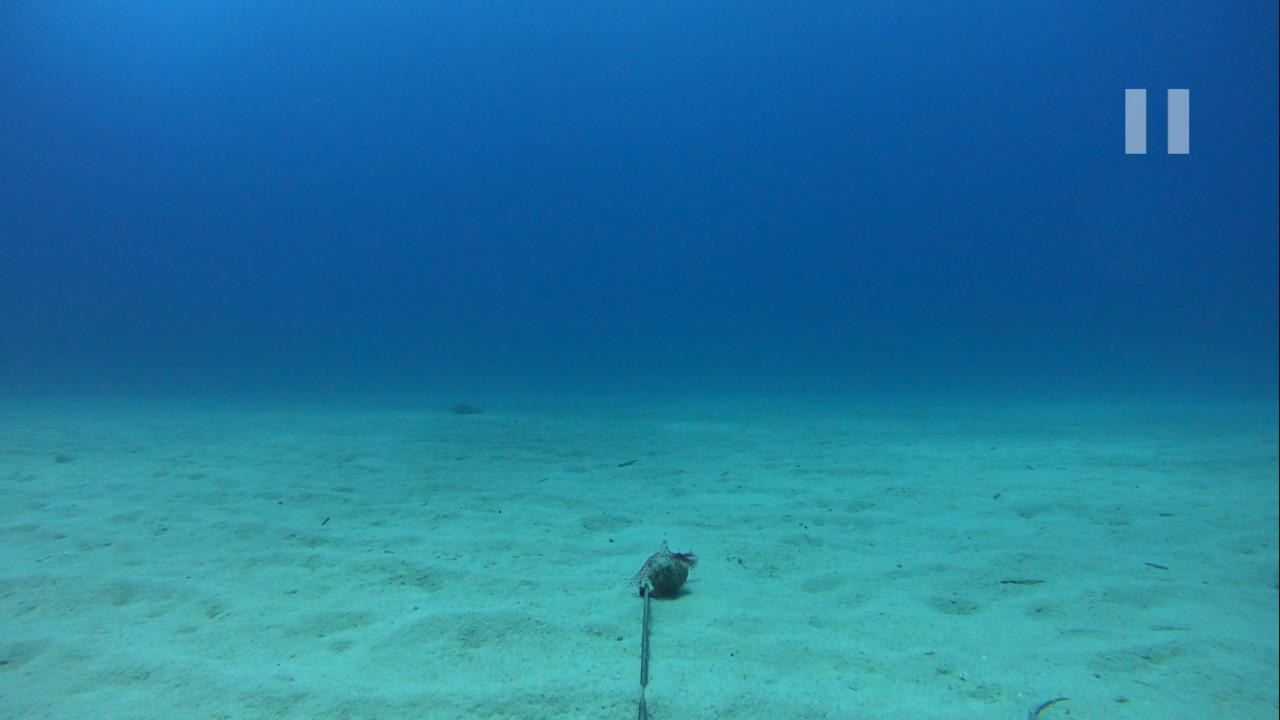myliobatis: (428, 395, 489, 416)
